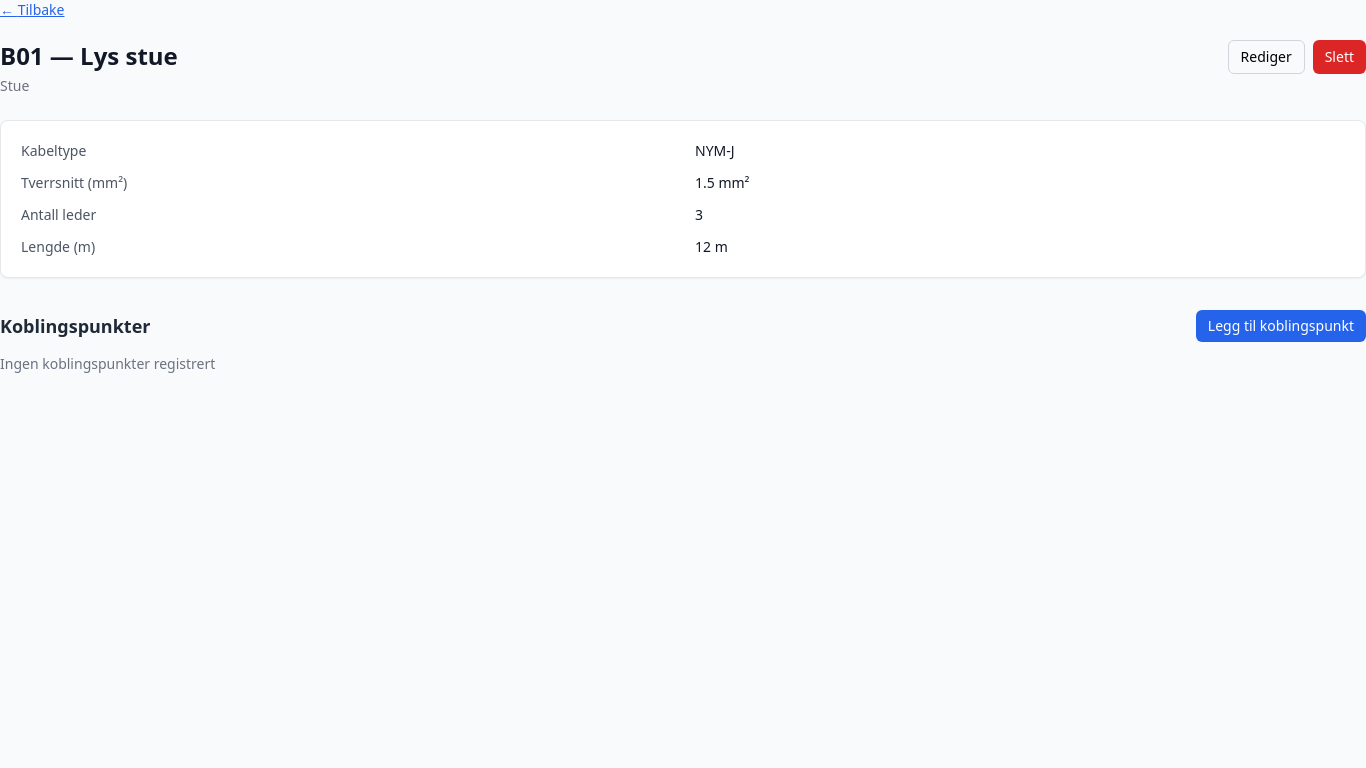
Test: CircuitDetail — connection point dialog validation › shows type error when submitting without type
Click the button "Legg til koblingspunkt": {"x": 1281, "y": 326} [1196, 310, 1365, 342]
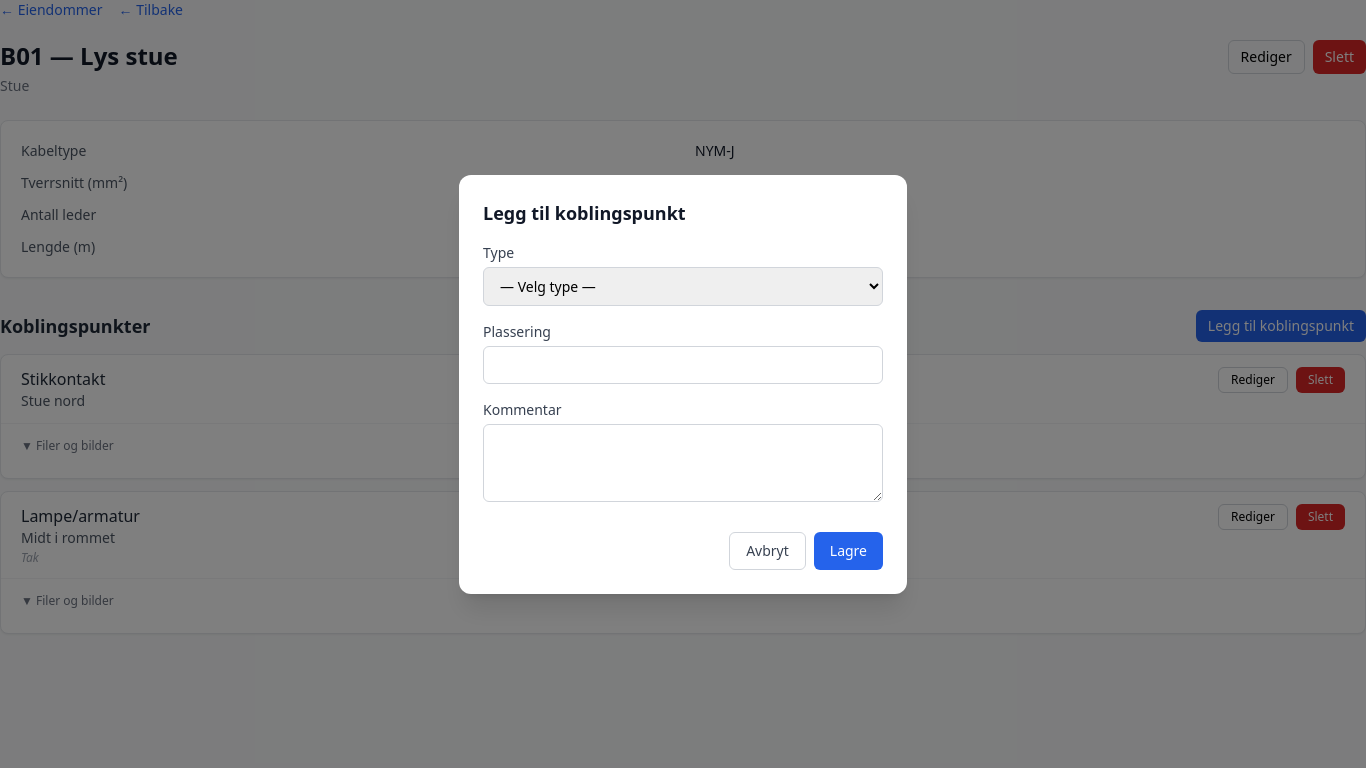
Click the button "Lagre": {"x": 848, "y": 550} [814, 532, 883, 570]
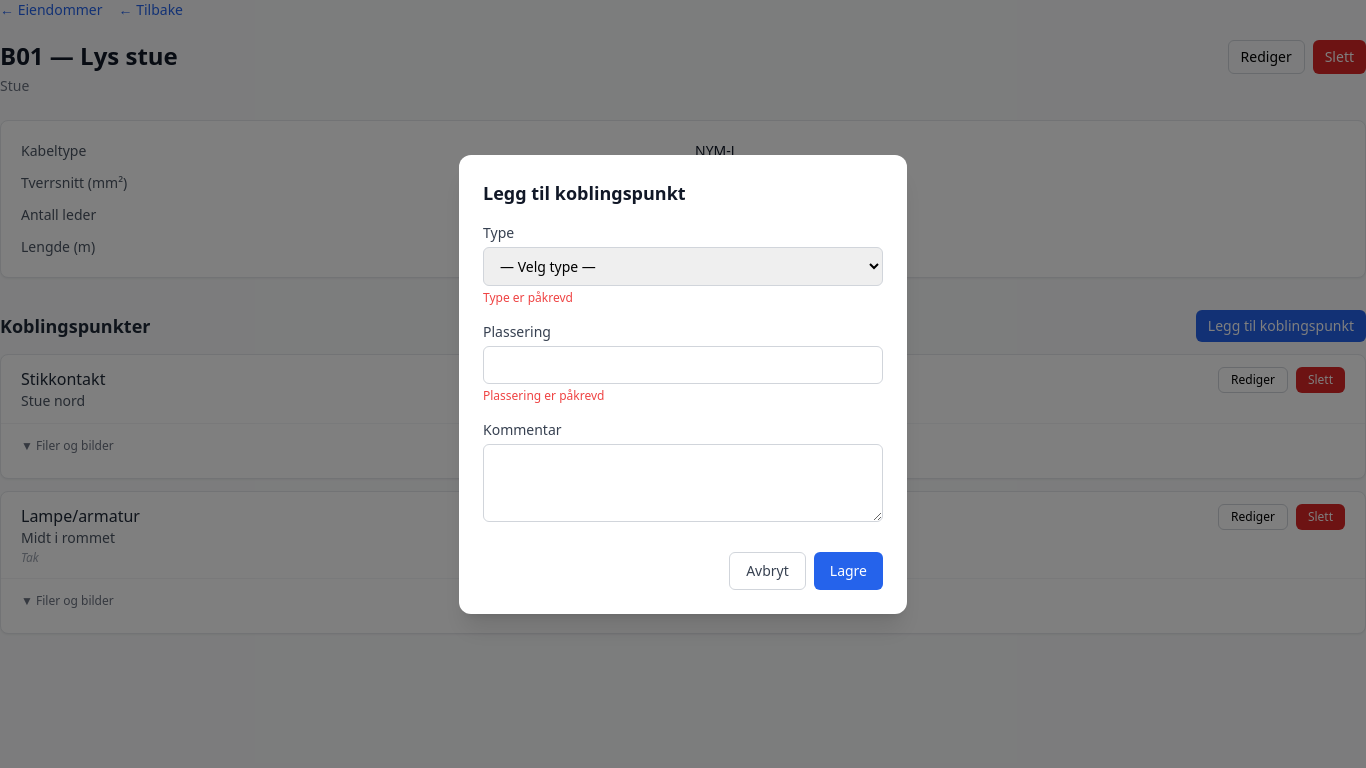
Now the text "Type er påkrevd" is shown, box [483, 288, 573, 306]
